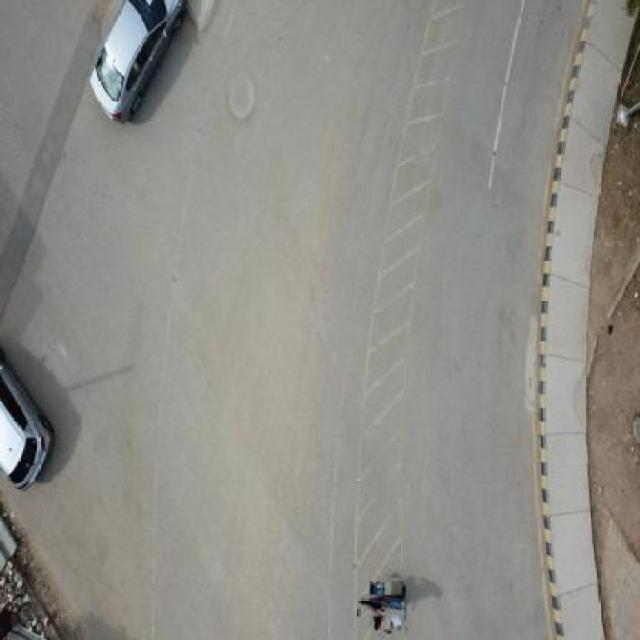Person: (363, 588, 399, 624), (387, 578, 407, 634)
